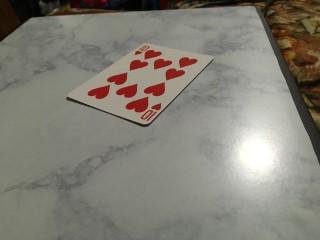TenOfHearts: (67, 42, 214, 125)
